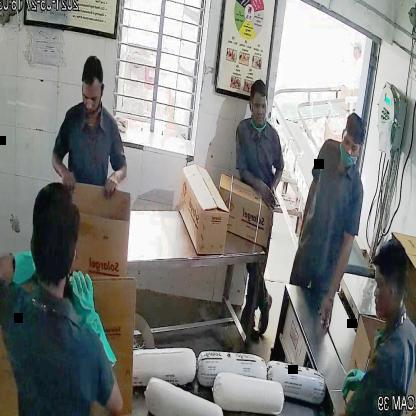no_goggles: (335, 133, 365, 157), (80, 84, 105, 106), (247, 96, 271, 115)
